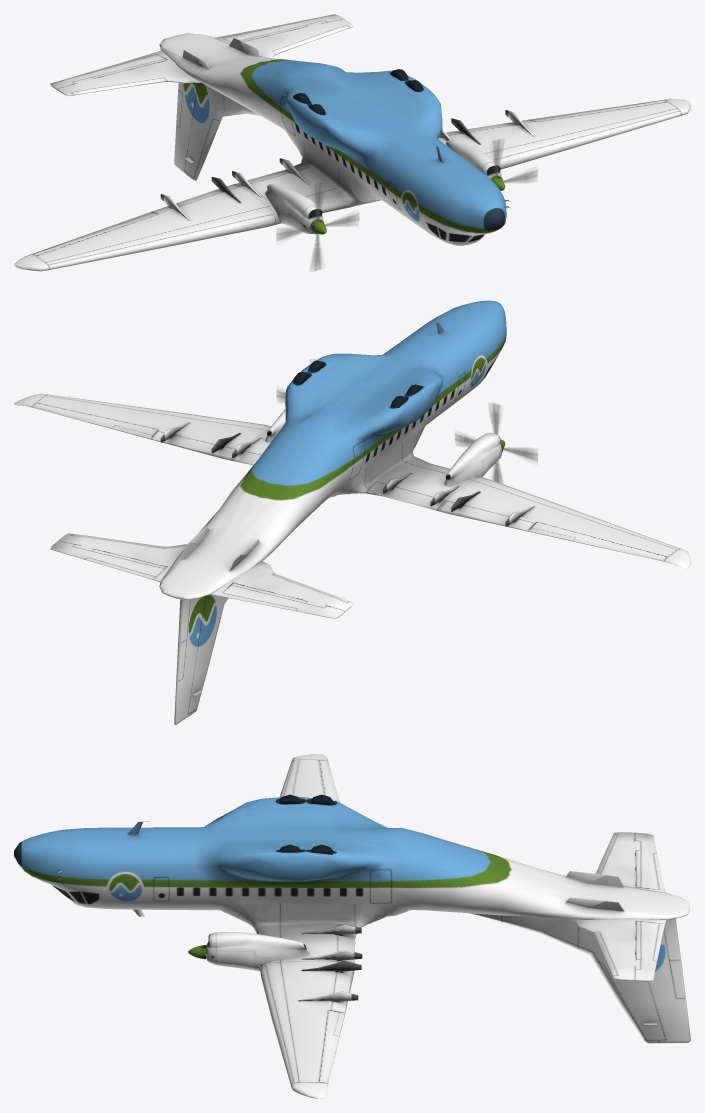
Rendered from Cesium_Air.glb.
3 renders of one model, top to bottom at view 1: azimuth 30°, elevation 25°; view 2: azimuth 150°, elevation 25°; view 3: azimuth 270°, elevation 25°, orthographic. The views are drawn at different scales.
Visible parts, largest first — view 1: Cesium_Air, Prop__2_, Prop; view 2: Cesium_Air, Prop__2_; view 3: Cesium_Air.
Boxes of the visible parts, x1,y1,x2,y2 form: Cesium_Air: [14, 14, 690, 271]; Prop__2_: [276, 183, 359, 270]; Prop: [491, 139, 537, 190]; Cesium_Air: [14, 300, 690, 725]; Prop__2_: [455, 403, 537, 483]; Cesium_Air: [14, 754, 690, 1098].
Bounding box in the file's own units: 25.74 × 7.76 × 21.4.
2 materials, 2 textured.
